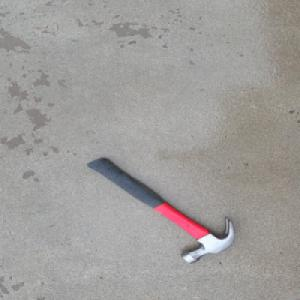Hammer: (84, 156, 236, 263)
